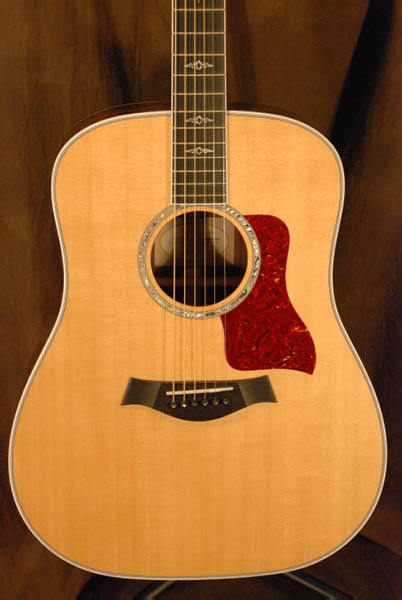guitar: (10, 2, 390, 583)
